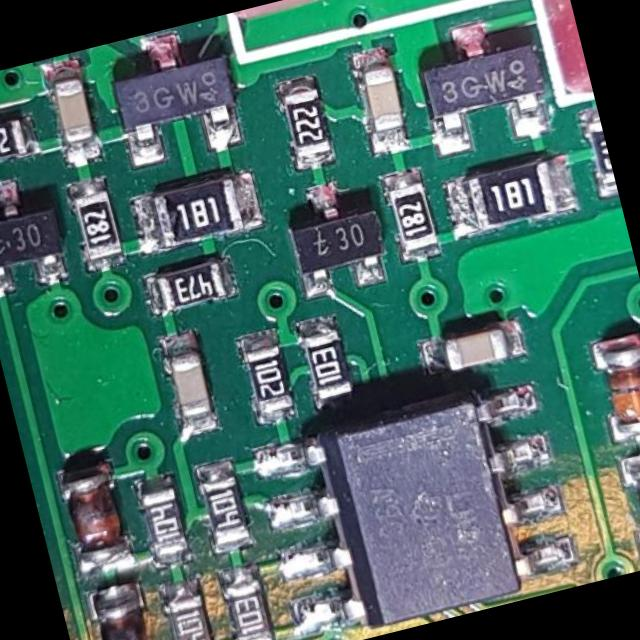IC: (263, 378, 573, 640)
capacitor: (431, 316, 516, 383), (358, 58, 414, 141), (165, 343, 218, 423), (52, 70, 102, 148)
diode: (58, 454, 128, 550), (84, 578, 169, 640), (595, 332, 640, 441)
resistor: (450, 149, 570, 247), (130, 170, 256, 252), (66, 177, 131, 272), (292, 317, 355, 403), (150, 252, 230, 318), (379, 172, 442, 254), (276, 80, 332, 172), (234, 336, 296, 414), (134, 477, 184, 557), (197, 466, 250, 538), (220, 571, 268, 640), (162, 586, 217, 640), (0, 116, 25, 171)
transistor: (105, 32, 245, 160), (414, 25, 550, 147), (280, 193, 390, 290), (0, 188, 81, 294)
